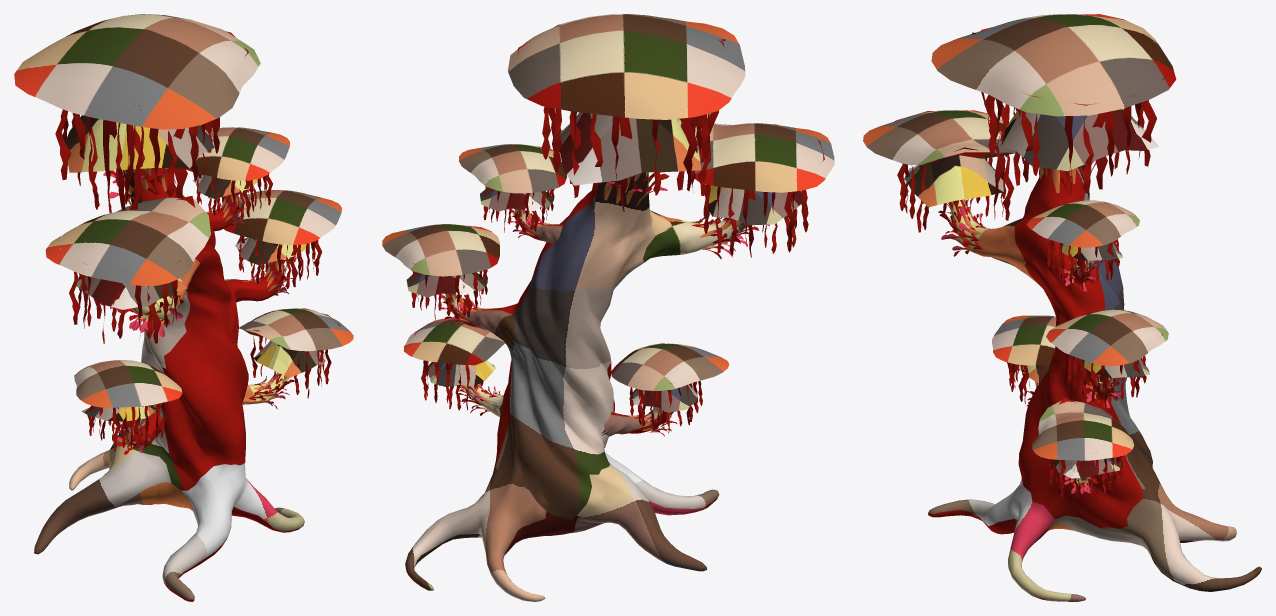
The model's file is jhay_tree2.glb.
The picture shows the model from 3 angles, left to right: view 1: azimuth 30°, elevation 25°; view 2: azimuth 150°, elevation 25°; view 3: azimuth 270°, elevation 25°; orthographic projection. The views are drawn at different scales.
Parts seen in each view (by area): view 1: tree 2; view 2: tree 2; view 3: tree 2.
Part boxes in pixels (x1,y1,x2,y2): tree 2: [14, 14, 353, 601]; tree 2: [382, 14, 834, 601]; tree 2: [863, 14, 1261, 601].
Size of the model in its own units: 4.28 by 5.9 by 4.19.
2 materials, 2 textured.
